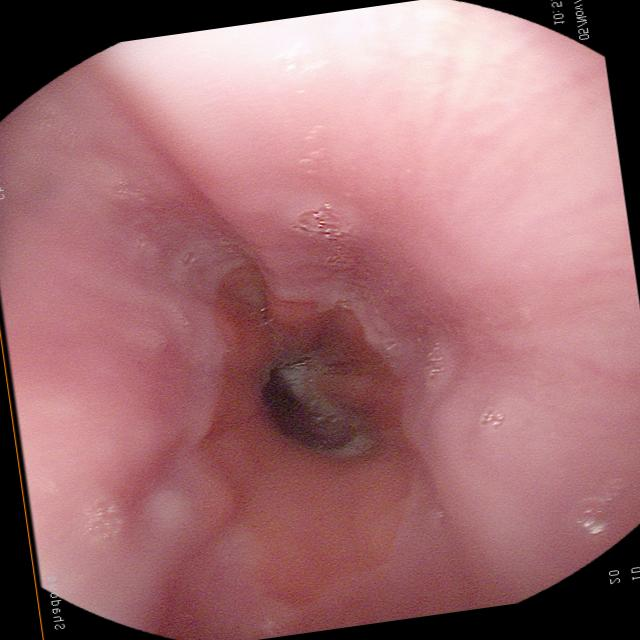Normal-Z-Line: (170, 248, 423, 640)
